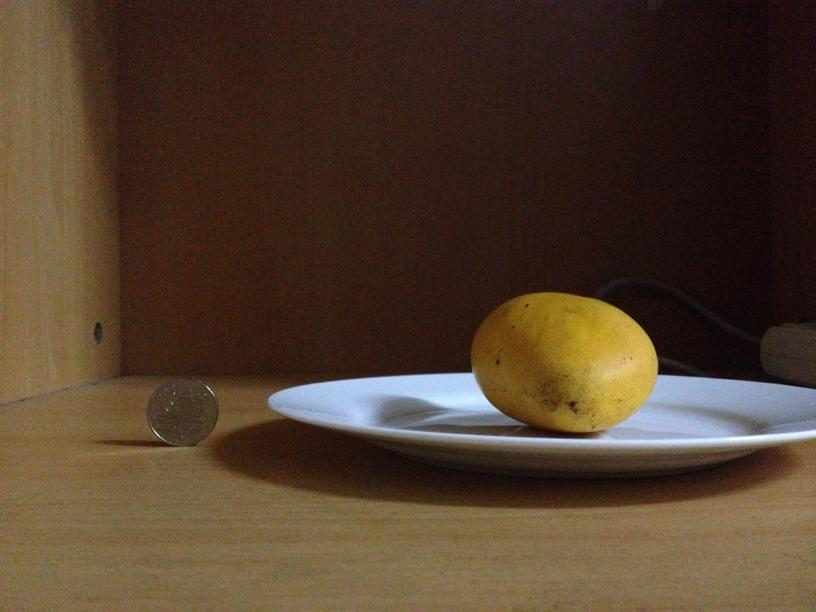coin: (148, 378, 217, 446)
mango: (474, 295, 657, 434)
